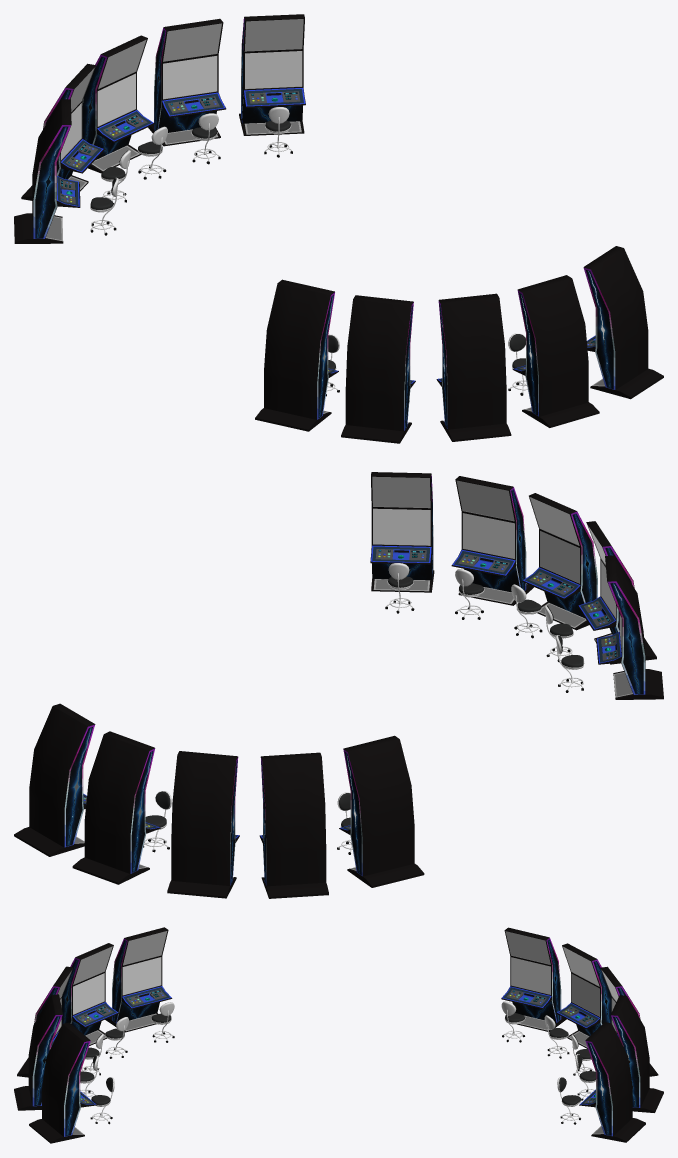
File: SlotAutomatCollectionEntryRoom.fbx
The picture shows the model from 3 angles, top to bottom: view 1: azimuth 30°, elevation 25°; view 2: azimuth 150°, elevation 25°; view 3: azimuth 270°, elevation 25°; orthographic projection. The views are drawn at different scales.
Parts seen in each view (by area): view 1: SlotMashine.010, SlotMashine.012, SlotMashine.007, SlotMashine.048, SlotMashine.049, SlotMashine.008, SlotMashine.001, SlotMashine.009, SlotMashine.021, SlotMashine.011, GameChair.001, GameChair.002 (+2 smaller); view 2: SlotMashine.009, SlotMashine.011, SlotMashine.021, SlotMashine.008, SlotMashine.001, SlotMashine.048, SlotMashine.049, SlotMashine.012, SlotMashine.007, SlotMashine.010, GameChair.060, GameChair.059 (+3 smaller); view 3: SlotMashine.021, SlotMashine.007, SlotMashine.049, SlotMashine.001, SlotMashine.010, SlotMashine.011, SlotMashine.008, SlotMashine.048, SlotMashine.012, SlotMashine.009, GameChair.005, GameChair.019 (+6 smaller).
Boxes of the visible parts, x1,y1,x2,y2 form: SlotMashine.010: [341, 295, 415, 443]; SlotMashine.012: [436, 293, 511, 441]; SlotMashine.007: [255, 279, 338, 431]; SlotMashine.048: [512, 275, 599, 427]; SlotMashine.049: [583, 246, 663, 399]; SlotMashine.008: [148, 18, 226, 146]; SlotMashine.001: [239, 14, 305, 135]; SlotMashine.009: [82, 35, 154, 173]; SlotMashine.021: [14, 99, 80, 243]; SlotMashine.011: [21, 63, 104, 200]; GameChair.001: [264, 107, 292, 157]; GameChair.002: [191, 113, 220, 164]; SlotMashine.009: [167, 751, 239, 898]; SlotMashine.011: [259, 752, 328, 898]; SlotMashine.021: [339, 735, 424, 887]; SlotMashine.008: [72, 731, 160, 884]; SlotMashine.001: [14, 703, 95, 856]; SlotMashine.048: [451, 476, 533, 605]; SlotMashine.049: [370, 472, 434, 592]; SlotMashine.012: [522, 493, 597, 630]; SlotMashine.007: [596, 555, 663, 699]; SlotMashine.010: [578, 521, 656, 664]; GameChair.060: [385, 563, 414, 613]; GameChair.059: [455, 569, 484, 619]; SlotMashine.021: [501, 927, 566, 1031]; SlotMashine.007: [105, 927, 172, 1032]; SlotMashine.049: [29, 1022, 96, 1143]; SlotMashine.001: [579, 1022, 645, 1142]; SlotMashine.010: [62, 943, 118, 1045]; SlotMashine.011: [556, 943, 611, 1048]; SlotMashine.008: [610, 995, 663, 1112]; SlotMashine.048: [14, 994, 62, 1110]; SlotMashine.012: [17, 966, 73, 1077]; SlotMashine.009: [600, 966, 658, 1076]; GameChair.005: [501, 1001, 525, 1042]; GameChair.019: [151, 1002, 174, 1042].
Bounding box in the file's own units: 836 × 272 × 1692.
7 materials, 4 textured.
